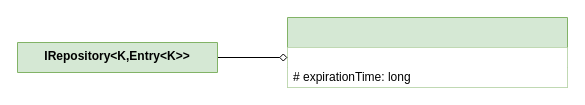
Some shapes in this 585 by 105 pixel diagram are drawn without their labels. The box of each missing label's shape, as (x1, y1, x2, y2) in pixels:
# metadataRepository: IRepository<K, Entry<K>>: (287, 47, 567, 67)
TimedCacheRepository<K,E>: (286, 16, 568, 88)
